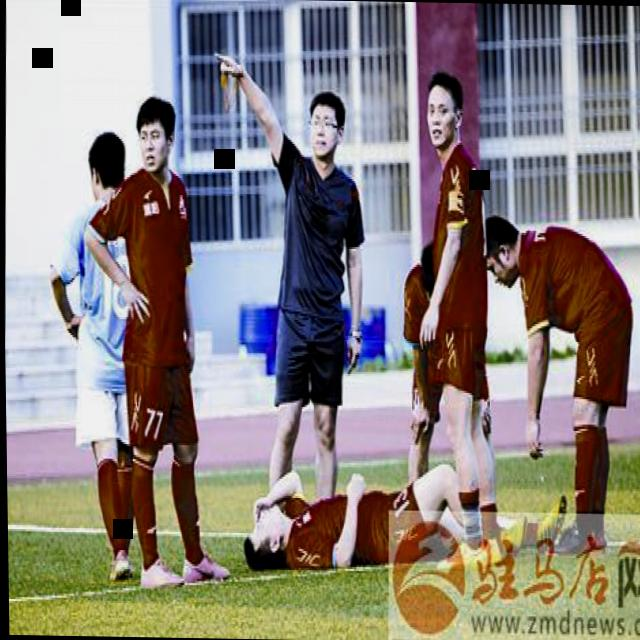Fall-Detected: (242, 444, 542, 584)
